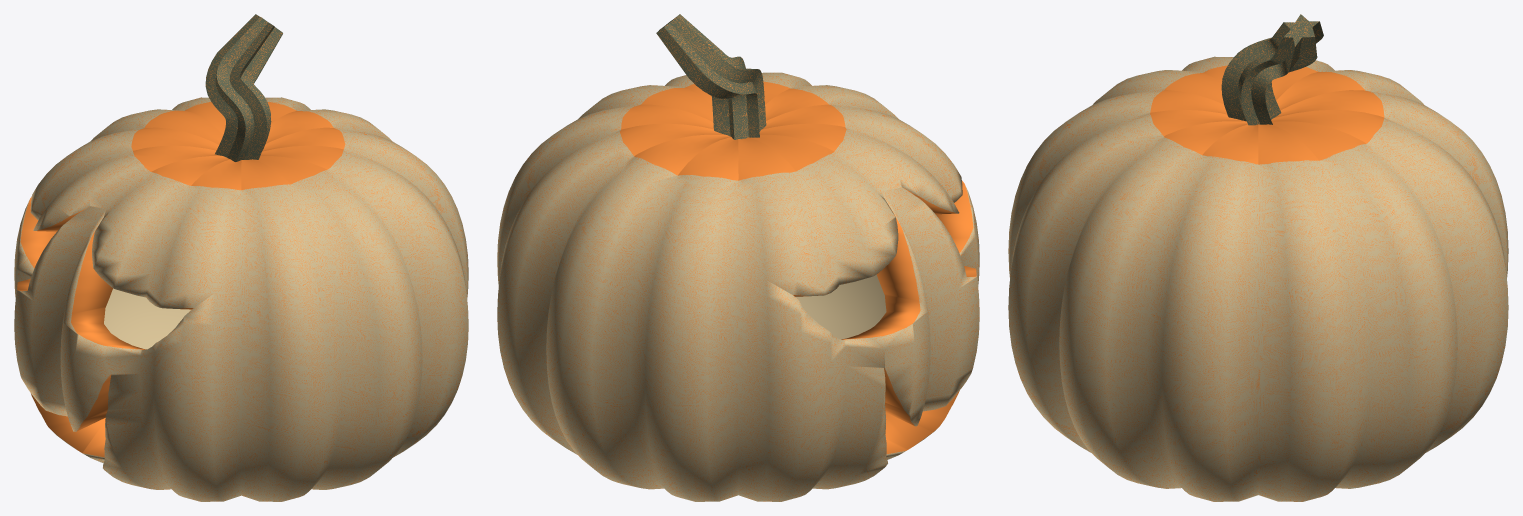
File: jacklantern.dae
The picture shows the model from 3 angles, left to right: view 1: azimuth 30°, elevation 25°; view 2: azimuth 150°, elevation 25°; view 3: azimuth 270°, elevation 25°; orthographic projection. The views are drawn at different scales.
Visible parts, largest first — view 1: SketchUp (×7); view 2: SketchUp (×7); view 3: SketchUp (×3).
Boxes of the visible parts, x1,y1,x2,y2 form: SketchUp (×7): [14, 14, 468, 501]; SketchUp (×7): [497, 14, 979, 501]; SketchUp (×3): [1008, 14, 1508, 501].
Bounding box in the file's own units: 24.85 × 24.85 × 24.96.
